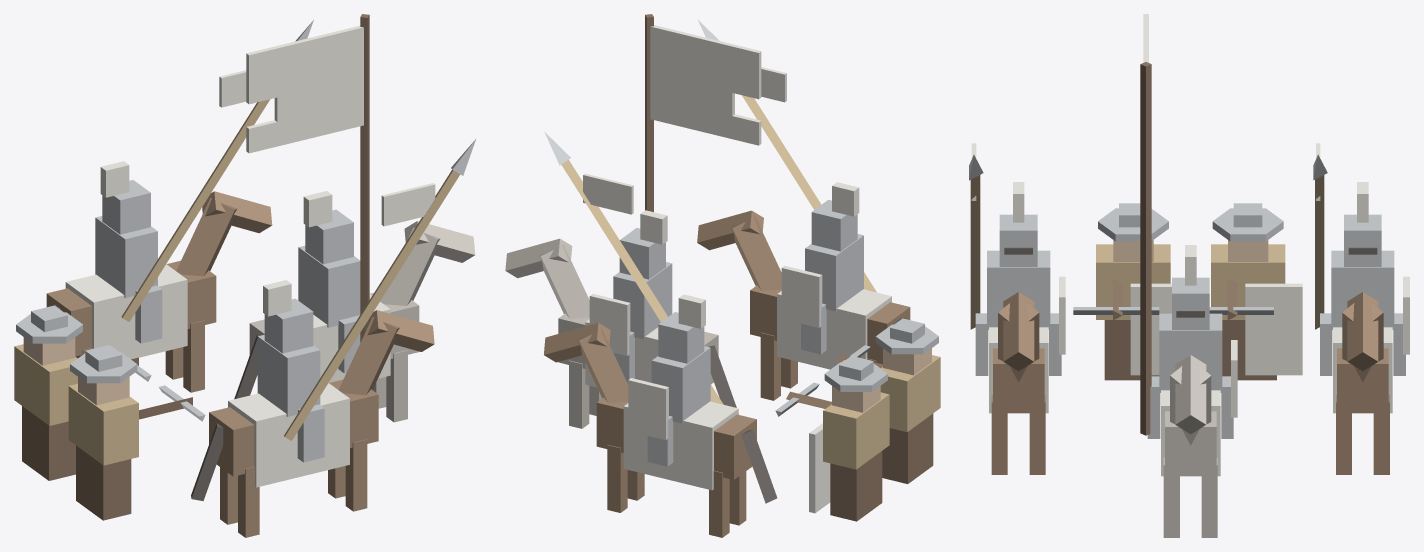
Rendered from army.glb.
The picture shows the model from 3 angles, left to right: view 1: azimuth 30°, elevation 25°; view 2: azimuth 150°, elevation 25°; view 3: azimuth 270°, elevation 25°; orthographic projection. The views are drawn at different scales.
Parts seen in each view (by area): view 1: medieval_army; view 2: medieval_army; view 3: medieval_army.
Part boxes in pixels (box(x1,y1,x2,y2)): medieval_army: box(14, 14, 475, 537); medieval_army: box(505, 14, 940, 537); medieval_army: box(969, 14, 1409, 537).
Size of the model in its own units: 0.9995 by 0.9543 by 0.8527.
